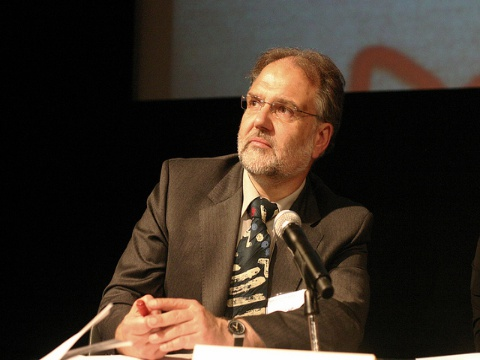hand: (146, 296, 225, 352)
